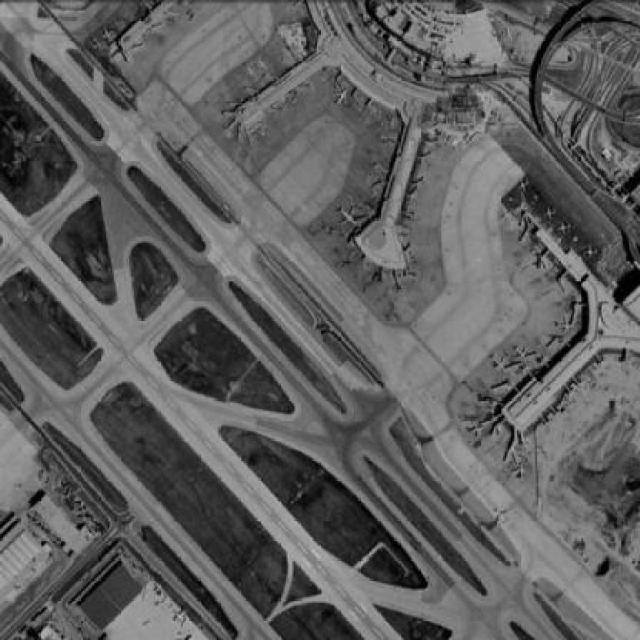airplane: (335, 204, 359, 227), (554, 316, 577, 336), (512, 462, 530, 483), (332, 89, 350, 108), (492, 509, 512, 526), (466, 422, 486, 439), (557, 220, 574, 237), (490, 356, 507, 373), (514, 346, 528, 363), (586, 245, 601, 260), (518, 178, 532, 192), (543, 207, 557, 221)
